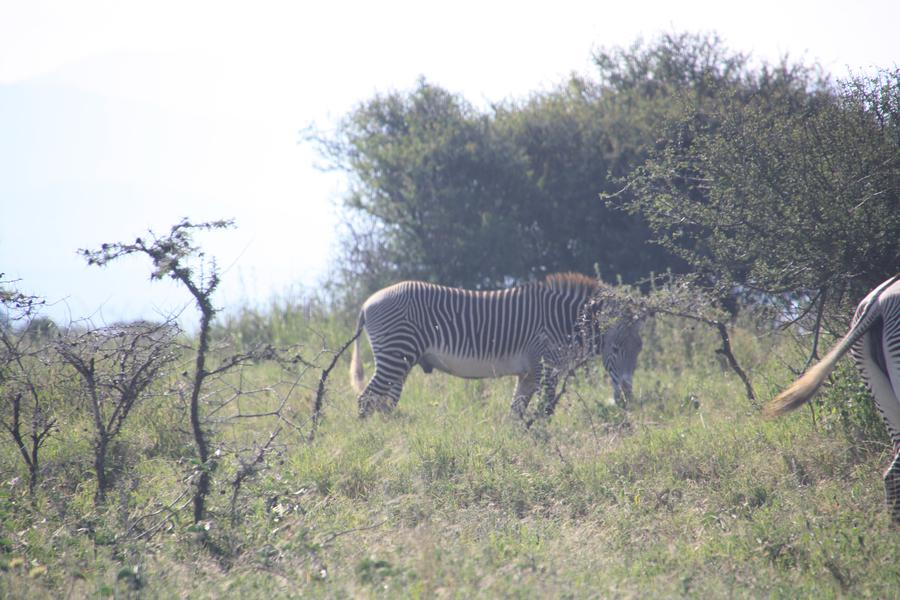zebra_grevys: (348, 267, 568, 374)
